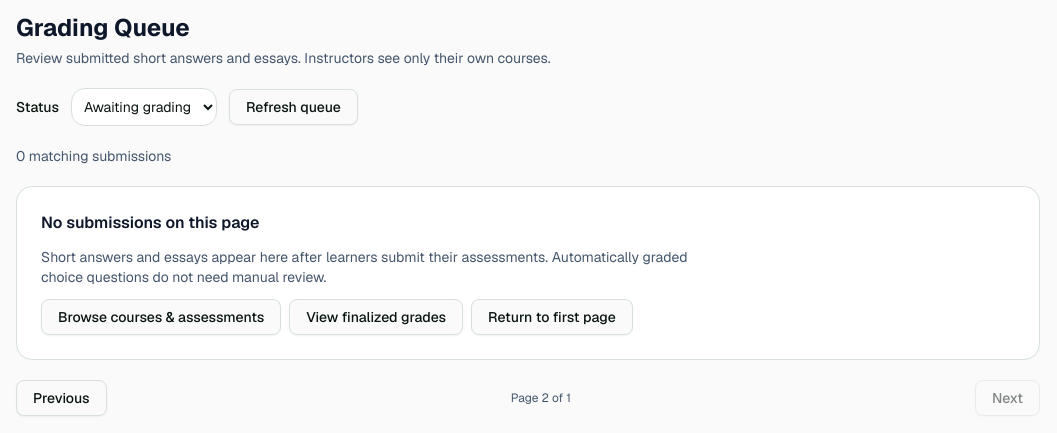
Test: keeps pagination and recovery when a later page becomes empty
Earlier steps of the test are not shown.
Expected: the button "Previous" is enabled, [16,380,106,416]
What coordinates should you click on to do the following:
click the button "Return to first page"
I would click on:
 (552, 317)
Its box is [471,299,633,335].
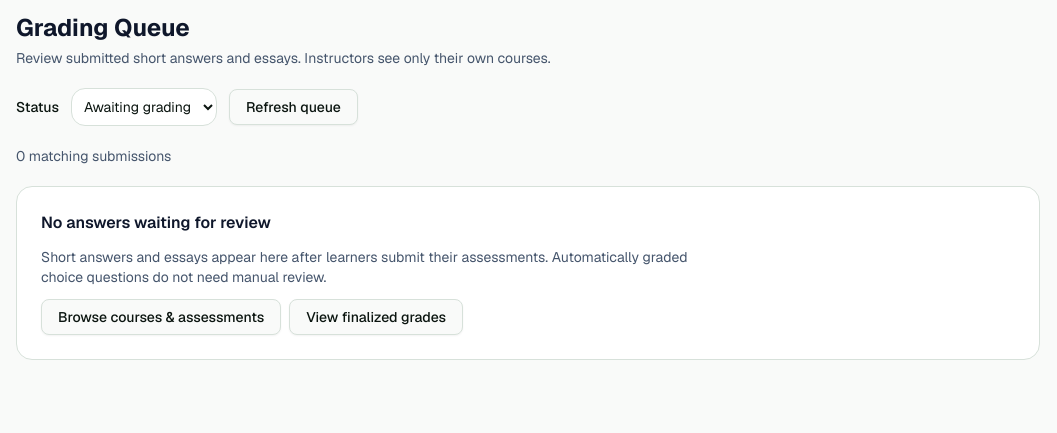
Expected: the button "Previous" is gone
